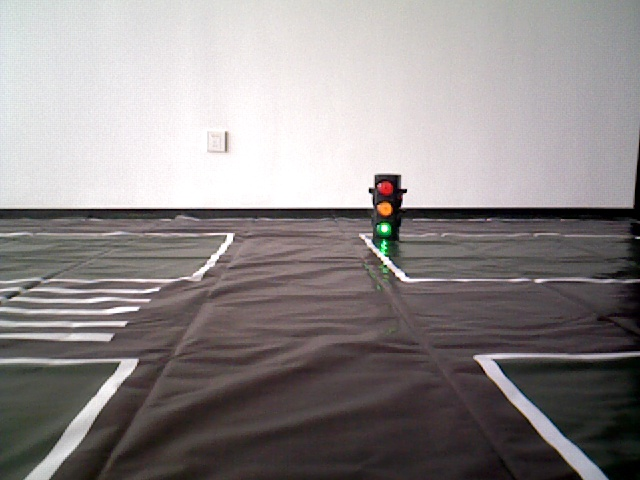green: (374, 171, 396, 235)
